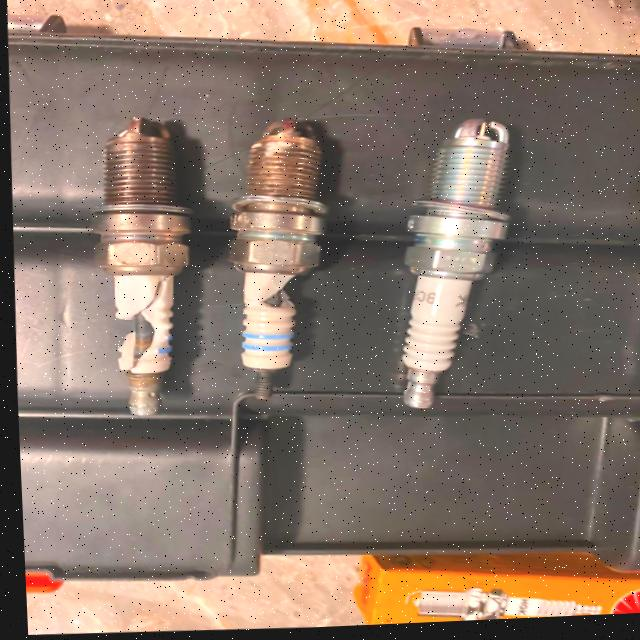damaged_spark-plug: (60, 112, 196, 441), (205, 116, 342, 406)
spark-plug: (353, 99, 541, 432)
